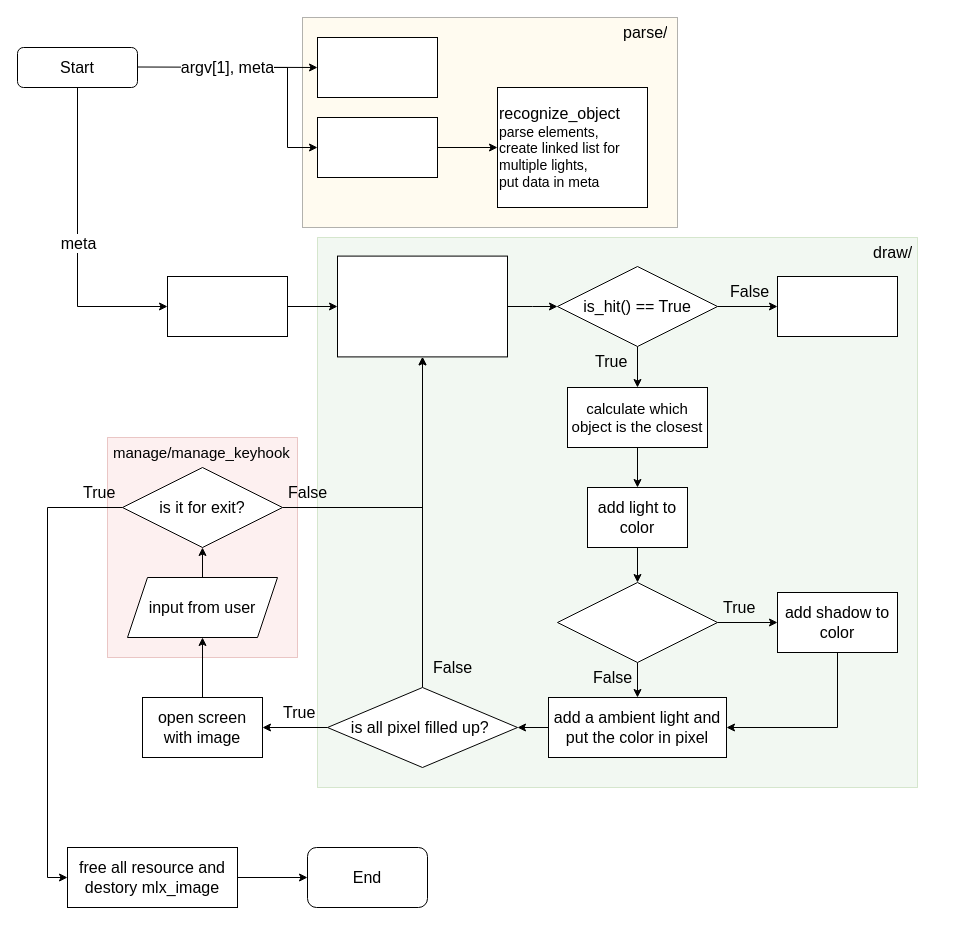
The diagram is 965 pixels wide and 925 high, and some of its shapes have lost their labels. The shapes that lost their labels are listed below. From the top down, each one's box as (x1, y1, x2, y2) in pixels, then its label:
(316, 36, 438, 98): create_meta
(316, 116, 438, 178): fill_objs
(166, 276, 288, 336): ray_tracing
(336, 255, 508, 357): send_ray adjust viewport, send ray and put the color of each pixel on image
(776, 276, 898, 336): draw background using height
(556, 582, 718, 662): is in shadow?
